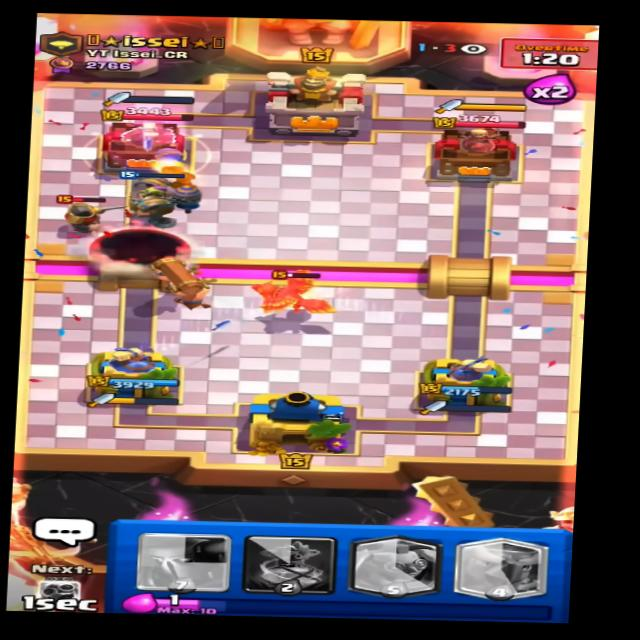Knight: (52, 187, 116, 239)
Pheonix: (233, 266, 350, 321)
